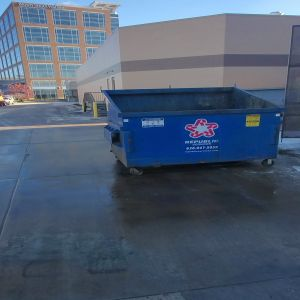Dumpster: (101, 89, 284, 176)
